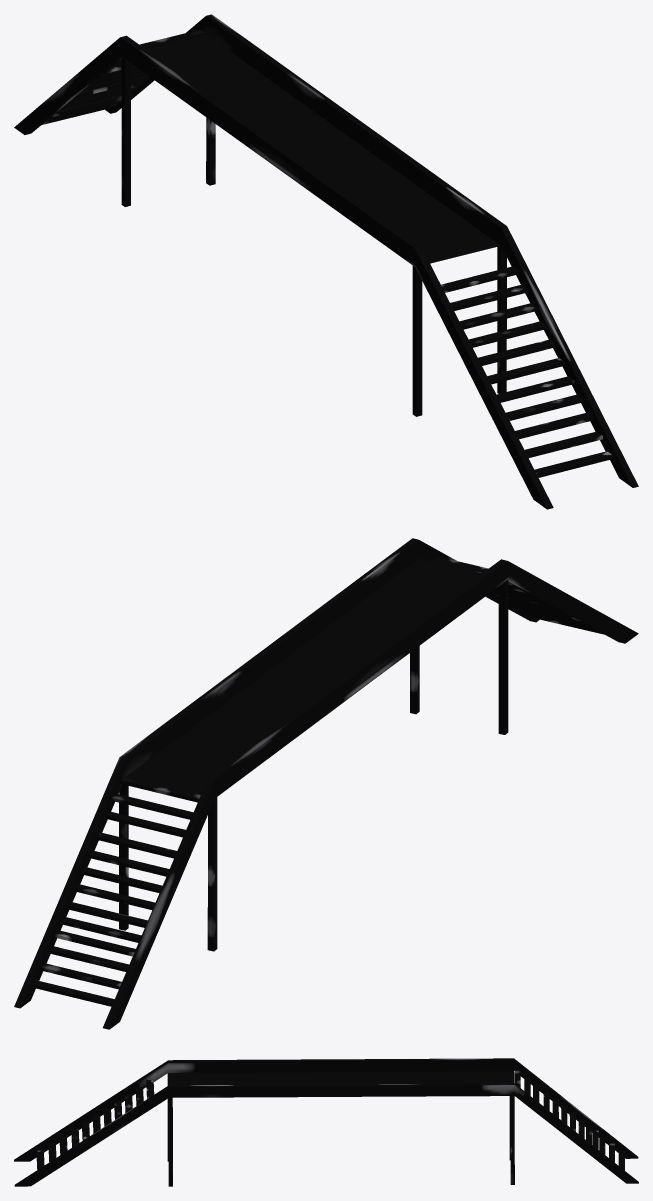
File: Object207_mol.FBX
3 views of the same model, one above another, from view 1: azimuth 30°, elevation 25°; view 2: azimuth 150°, elevation 25°; view 3: azimuth 270°, elevation 25° (orthographic). The views are drawn at different scales.
Parts seen in each view (by area): view 1: Object207; view 2: Object207; view 3: Object207.
Boxes of the visible parts, x1,y1,x2,y2 form: Object207: (14,14,638,509); Object207: (14,538,638,1029); Object207: (14,1058,638,1186).
Bounding box in the file's own units: 1.98 × 17.79 × 3.14.
